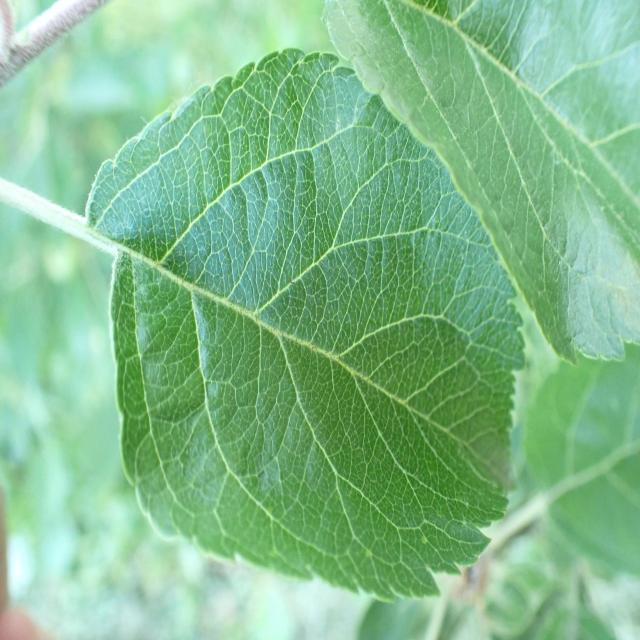healthy: (87, 48, 527, 603), (322, 0, 640, 365)
